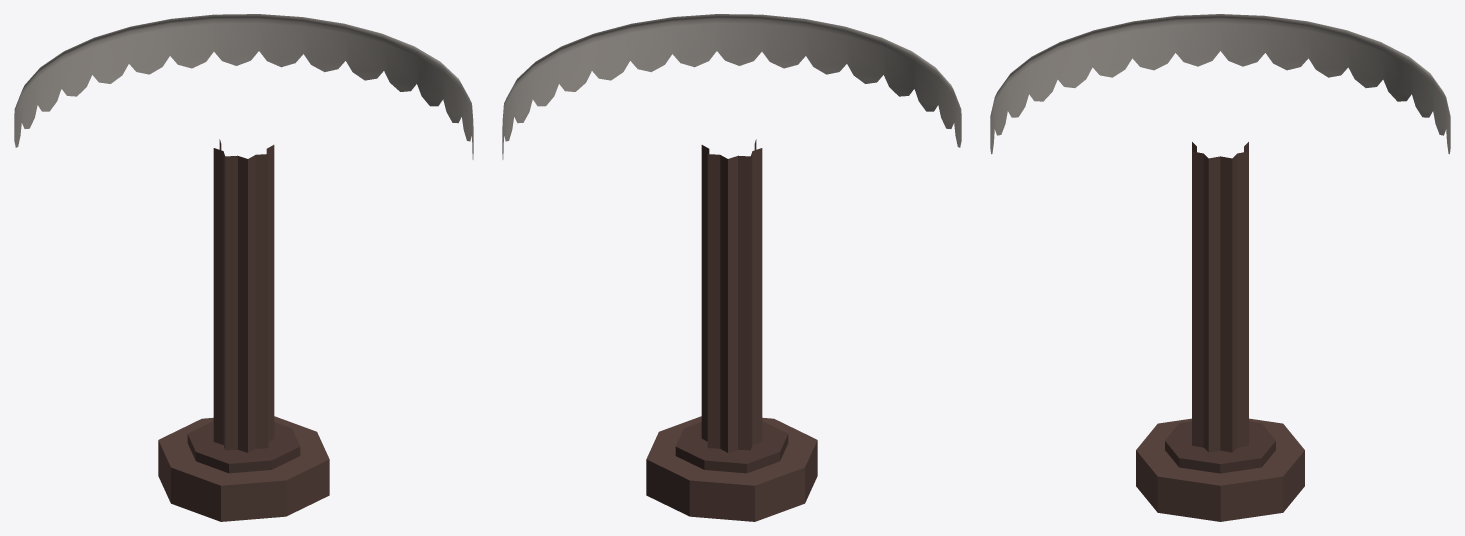
The model's file is table_round1.gltf.
3 renders of one model, left to right at view 1: azimuth 30°, elevation 25°; view 2: azimuth 150°, elevation 25°; view 3: azimuth 270°, elevation 25°, orthographic.
Visible parts, largest first — view 1: Circle, Cylinder.002, Cube.001; view 2: Circle, Cylinder.002, Cube.001; view 3: Circle, Cylinder.002, Cube.001.
Part boxes in pixels (x1,y1,x2,y2): Circle: [14, 14, 473, 159]; Cylinder.002: [213, 139, 274, 452]; Cube.001: [158, 416, 329, 521]; Circle: [502, 14, 961, 159]; Cylinder.002: [701, 139, 762, 452]; Cube.001: [646, 416, 817, 521]; Circle: [990, 14, 1450, 154]; Cylinder.002: [1192, 142, 1248, 452]; Cube.001: [1136, 418, 1304, 521].
Size of the model in its own units: 1.1 by 0.9941 by 1.1.
